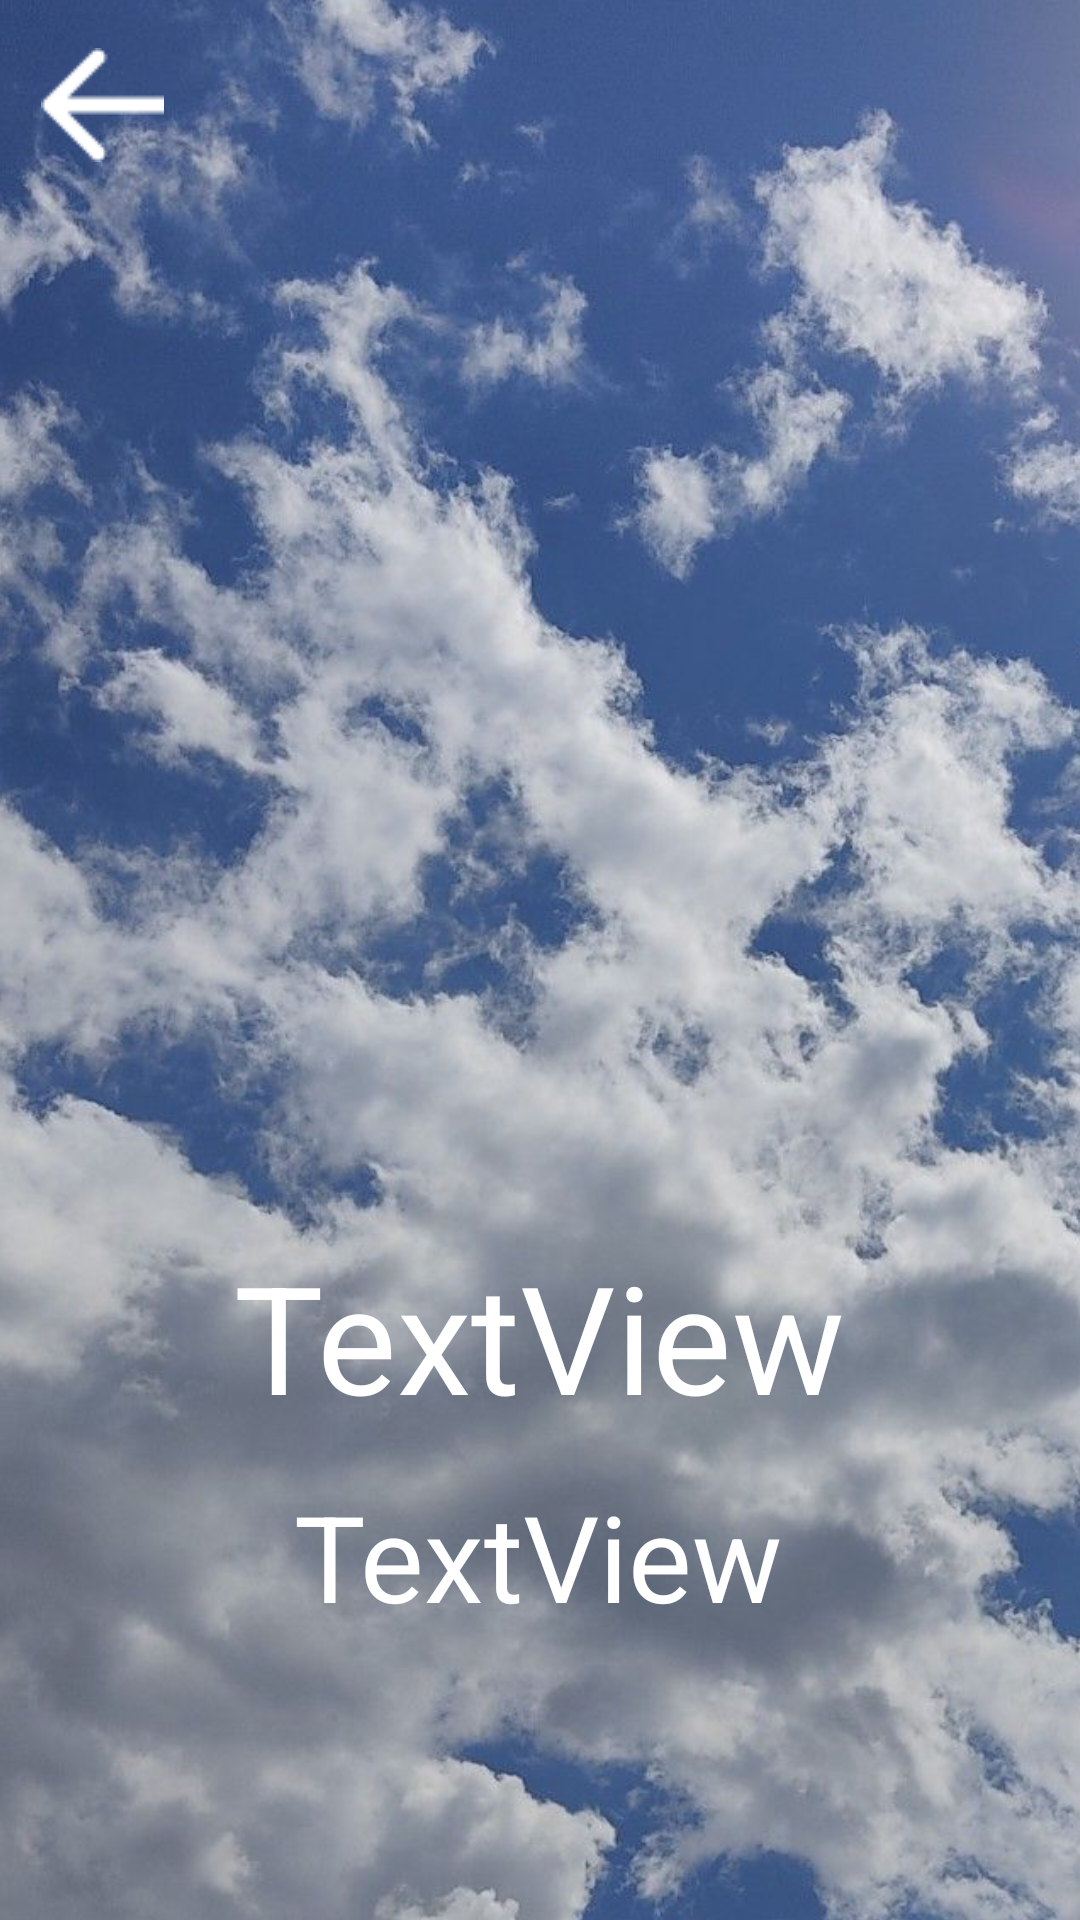

Icons on this 1080x1920 Android screen, each with its box as (x1, y1, x2, y2):
2arrow: (41, 48, 164, 162)
